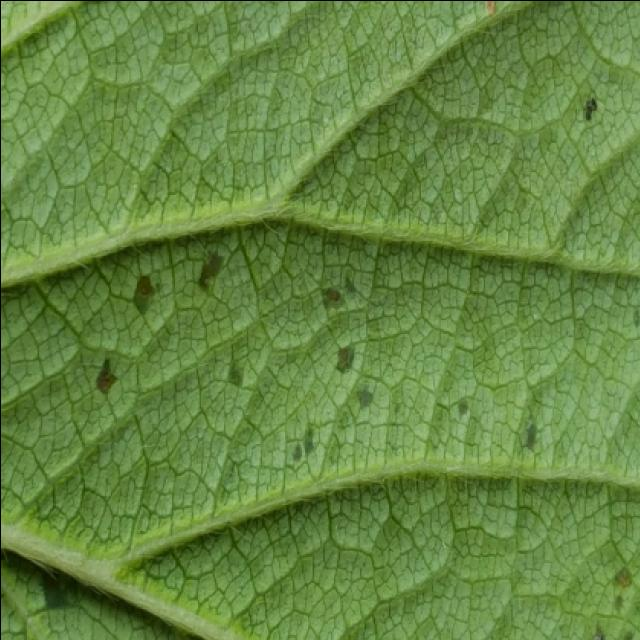Angular Leafspot: (74, 244, 640, 478), (574, 559, 640, 640), (573, 90, 605, 126)
